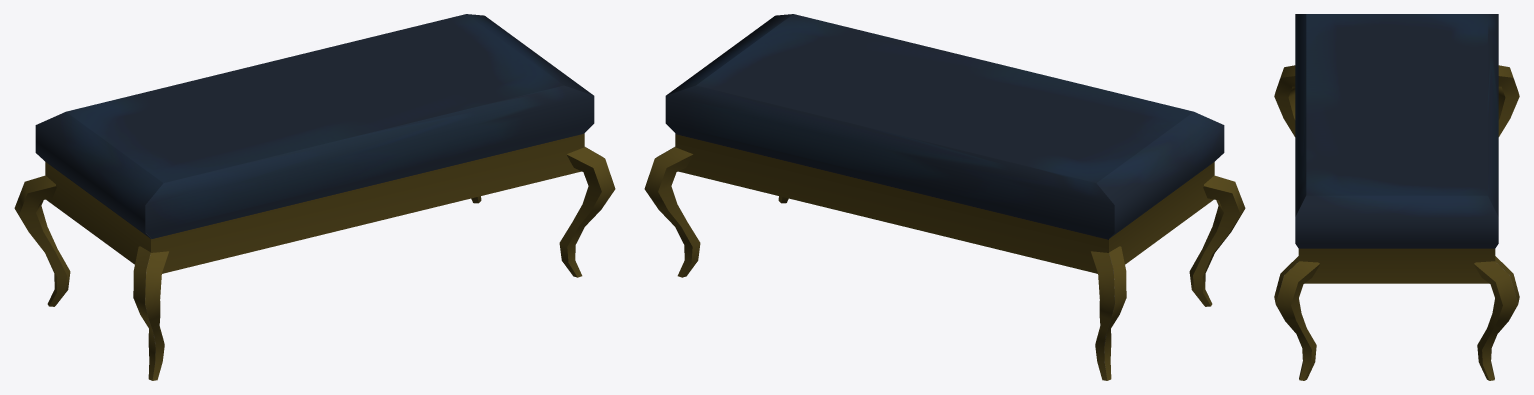
The model's file is 05 sillon peq.obj.
3 views of the same model, side by side, from view 1: azimuth 30°, elevation 25°; view 2: azimuth 150°, elevation 25°; view 3: azimuth 270°, elevation 25° (orthographic). The views are drawn at different scales.
Visible parts, largest first — view 1: pCube1, sweep2; view 2: pCube1, sweep2; view 3: pCube1, sweep2.
Boxes of the visible parts, box(x1,y1,x2,y2) form: pCube1: box(35, 14, 594, 273); sweep2: box(14, 147, 615, 380); pCube1: box(665, 14, 1224, 273); sweep2: box(644, 147, 1245, 380); pCube1: box(1295, 14, 1498, 283); sweep2: box(1274, 65, 1519, 380).
Bounding box in the file's own units: 107 × 41.03 × 51.14.
2 materials, 2 textured.
